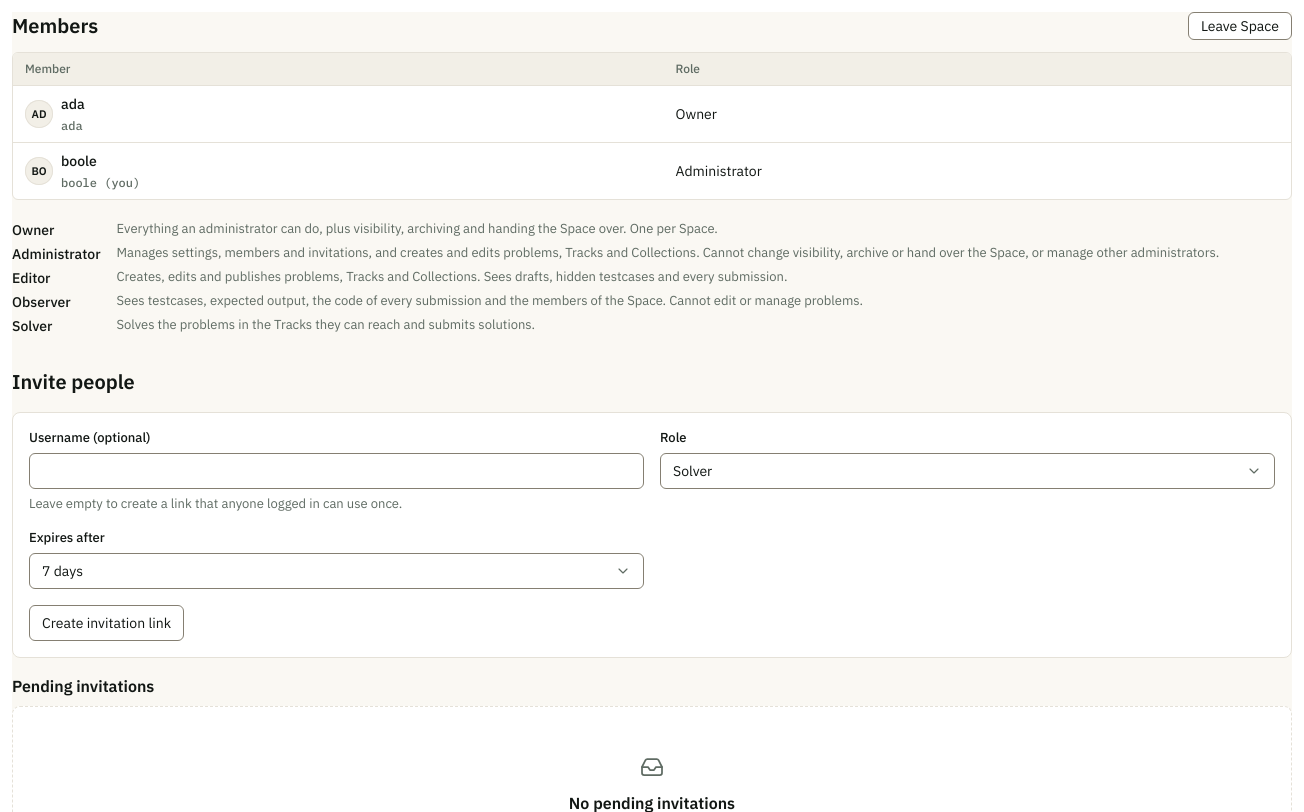
Test case: MembersPanel › invitations › offer administrator, editor, observer and solver with descriptions, and lock what an administrator cannot invite
Step 1. Click the dropdown named "Role" → (693, 470), box [660,452,1275,488]
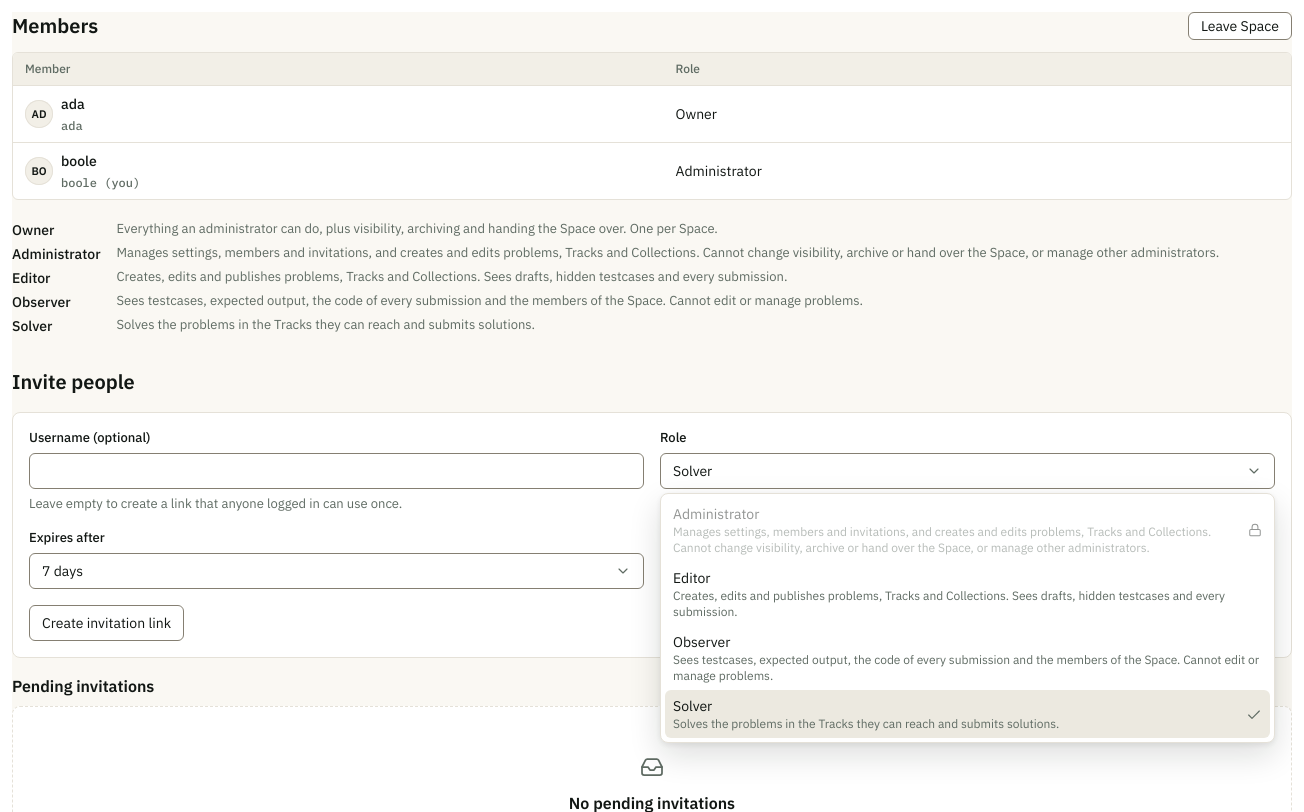
Expected: the number of options is 4, [665,498,1270,562]; [665,562,1270,626]; [665,626,1270,690]; [665,690,1270,738]
Expected: the option "Observer" shows "Sees testcases", [665,626,1270,690]
